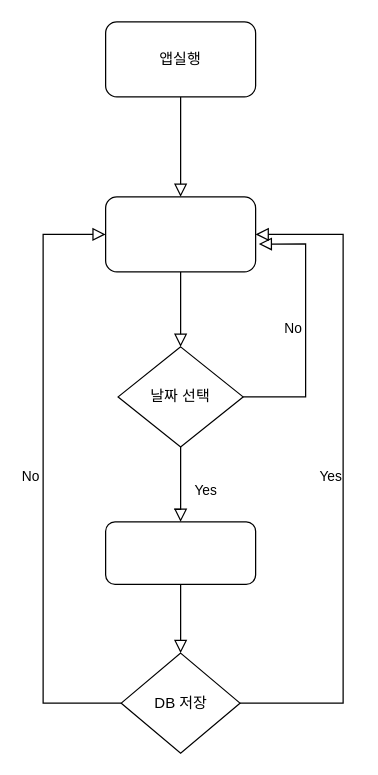
Image size: 378x775. Some labels were removed from this diagram. Here are the shapes that lost their labels. From the top down, the centre of each, then its label:
the point at 180,234: 캘린더
the point at 180,552: 팝업창
